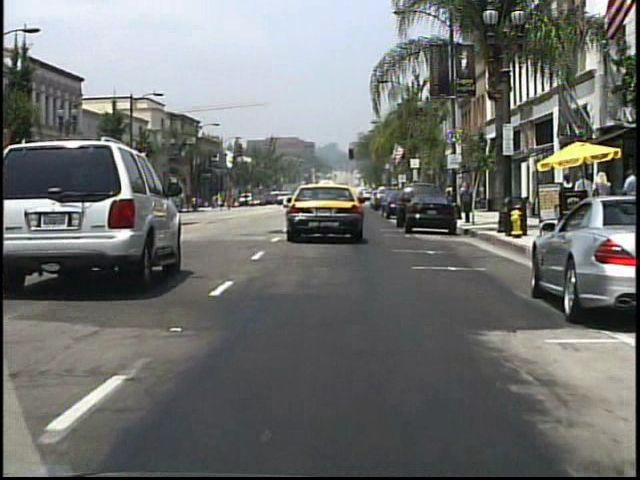person: (592, 169, 615, 226), (572, 169, 595, 226), (618, 170, 637, 229), (555, 172, 575, 226), (243, 193, 250, 209)
